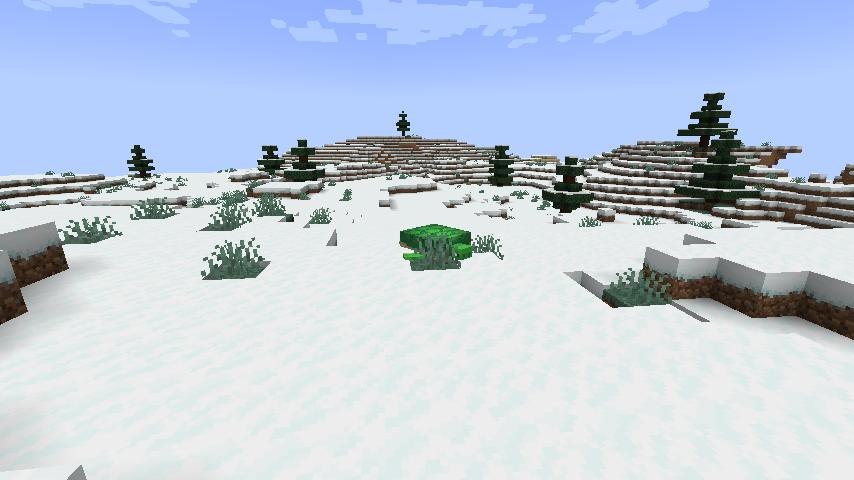turtle: (396, 220, 479, 264)
